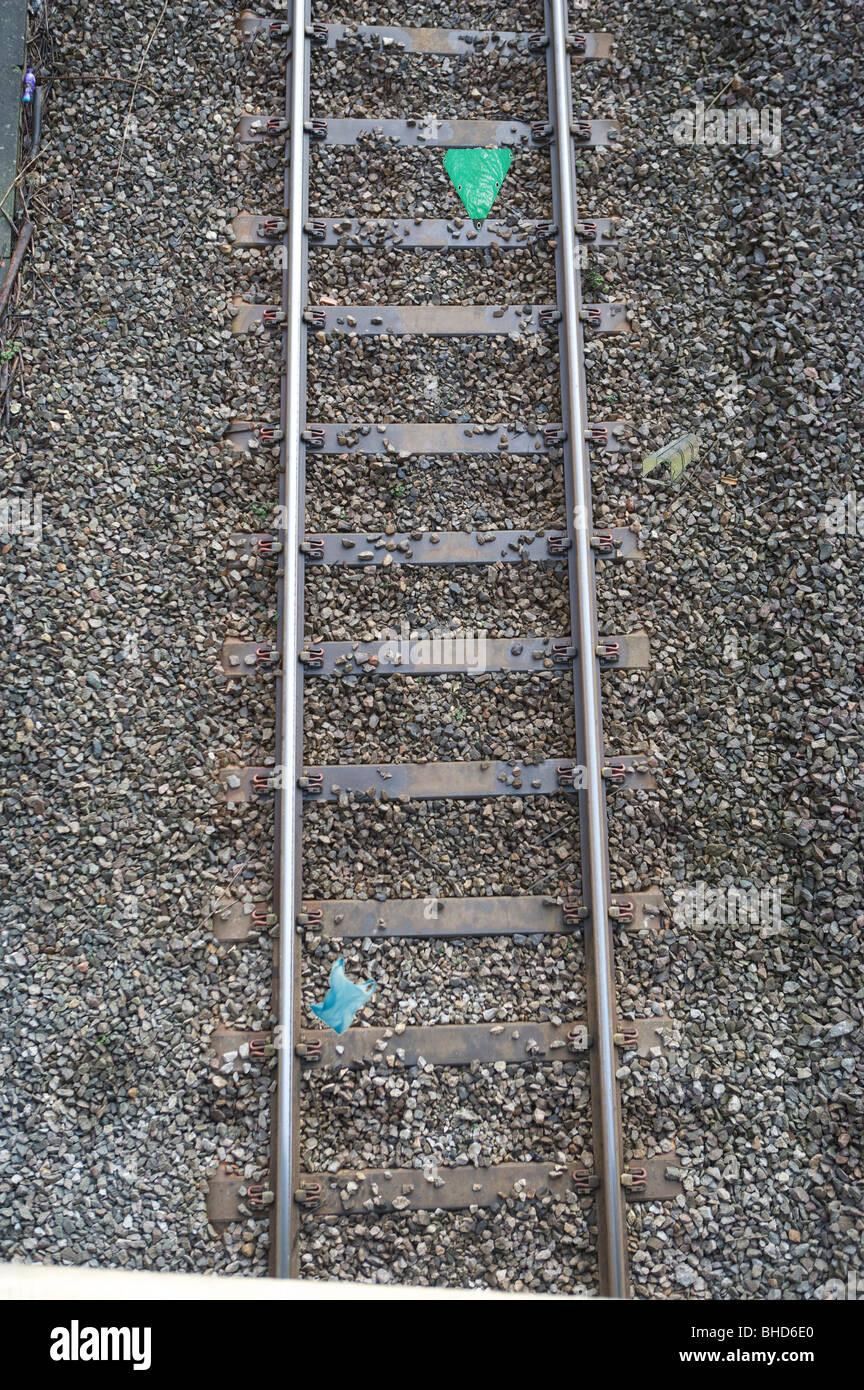Dust_screen: (437, 132, 525, 252)
Green_house: (632, 427, 708, 492)
Plastic: (295, 952, 380, 1038)
